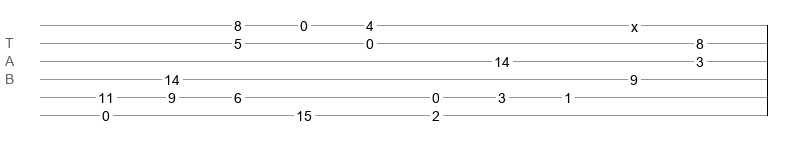0: (102, 108, 110, 118), (300, 18, 308, 28), (366, 36, 374, 46), (432, 90, 440, 100)
1: (564, 90, 572, 100)
11: (98, 90, 114, 100)
14: (164, 72, 180, 82), (494, 54, 510, 64)
15: (296, 108, 312, 118)
2: (432, 108, 440, 118)
3: (498, 90, 506, 100), (696, 54, 704, 64)
4: (366, 18, 374, 28)
5: (234, 36, 242, 46)
6: (234, 90, 242, 100)
8: (234, 18, 242, 28), (696, 36, 704, 46)
9: (168, 90, 176, 100), (630, 72, 638, 82)
x: (631, 19, 638, 27)
